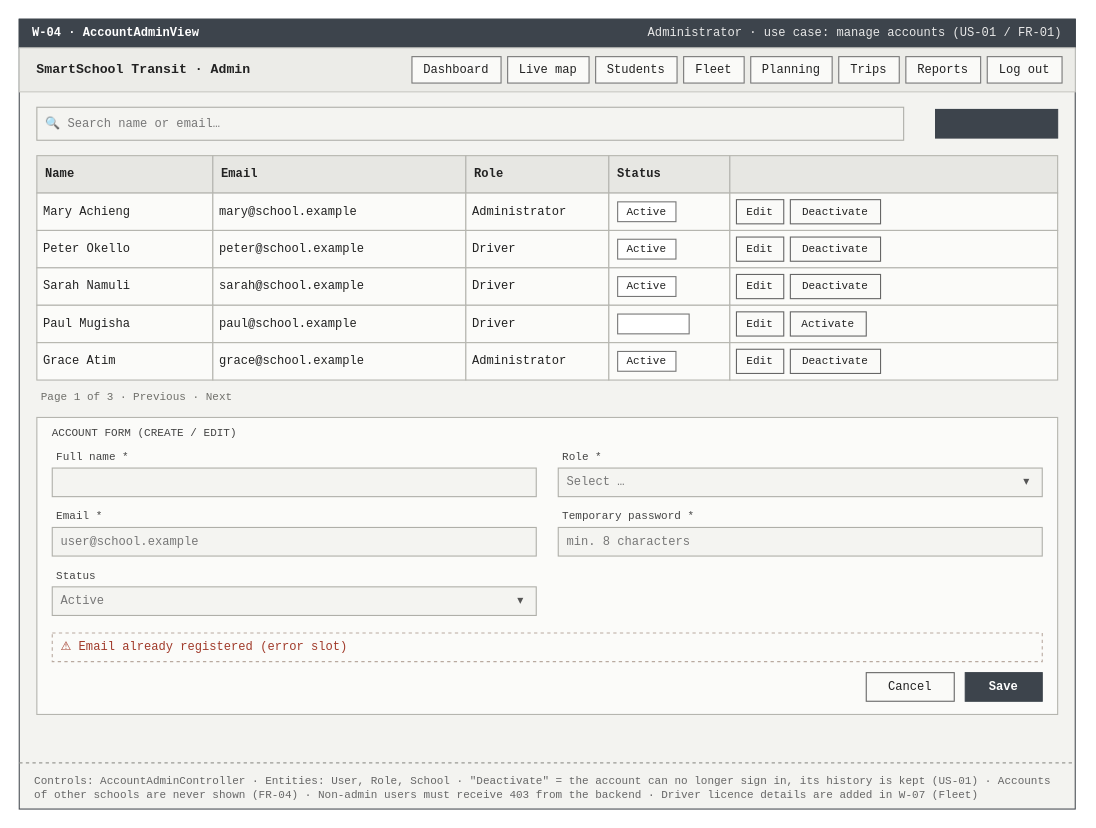
The diagram is 1096 pixels wide and 828 high, and some of its shapes have lost their labels. Each missing label, with the centre of its shape:
"+ New account" belongs at point 996,123.
"Actions" belongs at point 893,174.
"Inactive" belongs at point 653,323.
